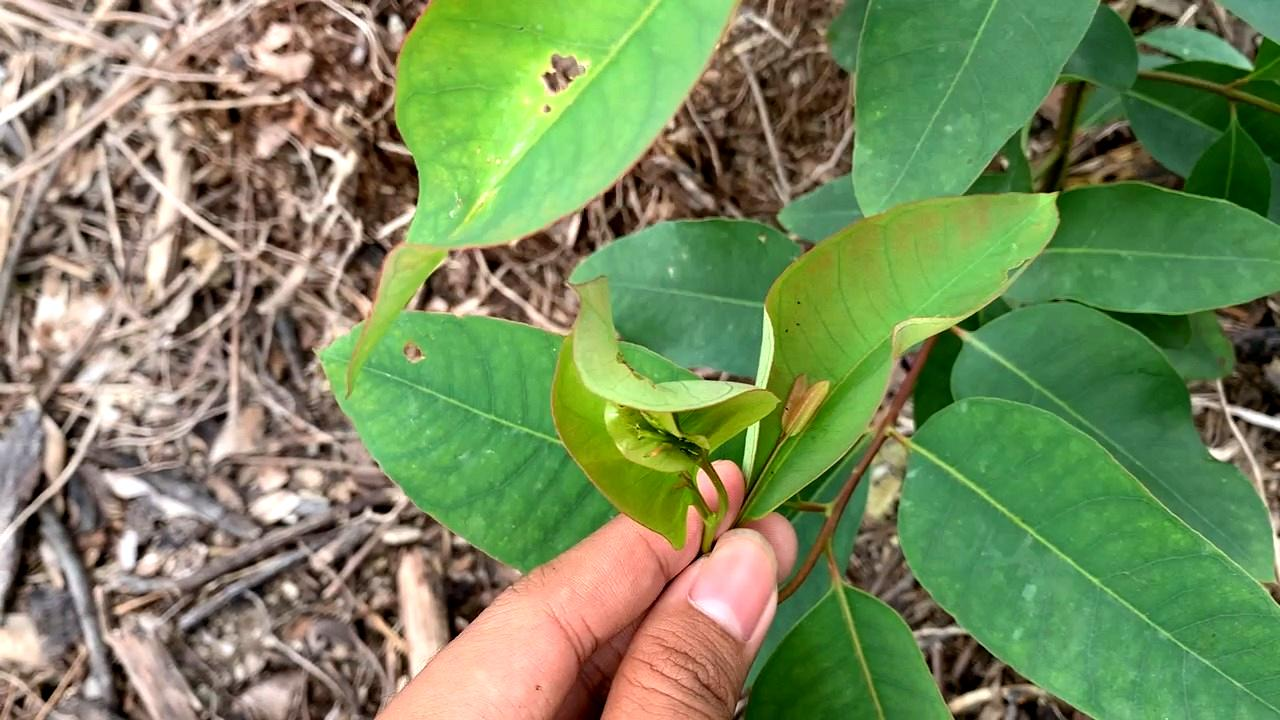Leaf Roller - Leaf: (554, 285, 767, 545)
